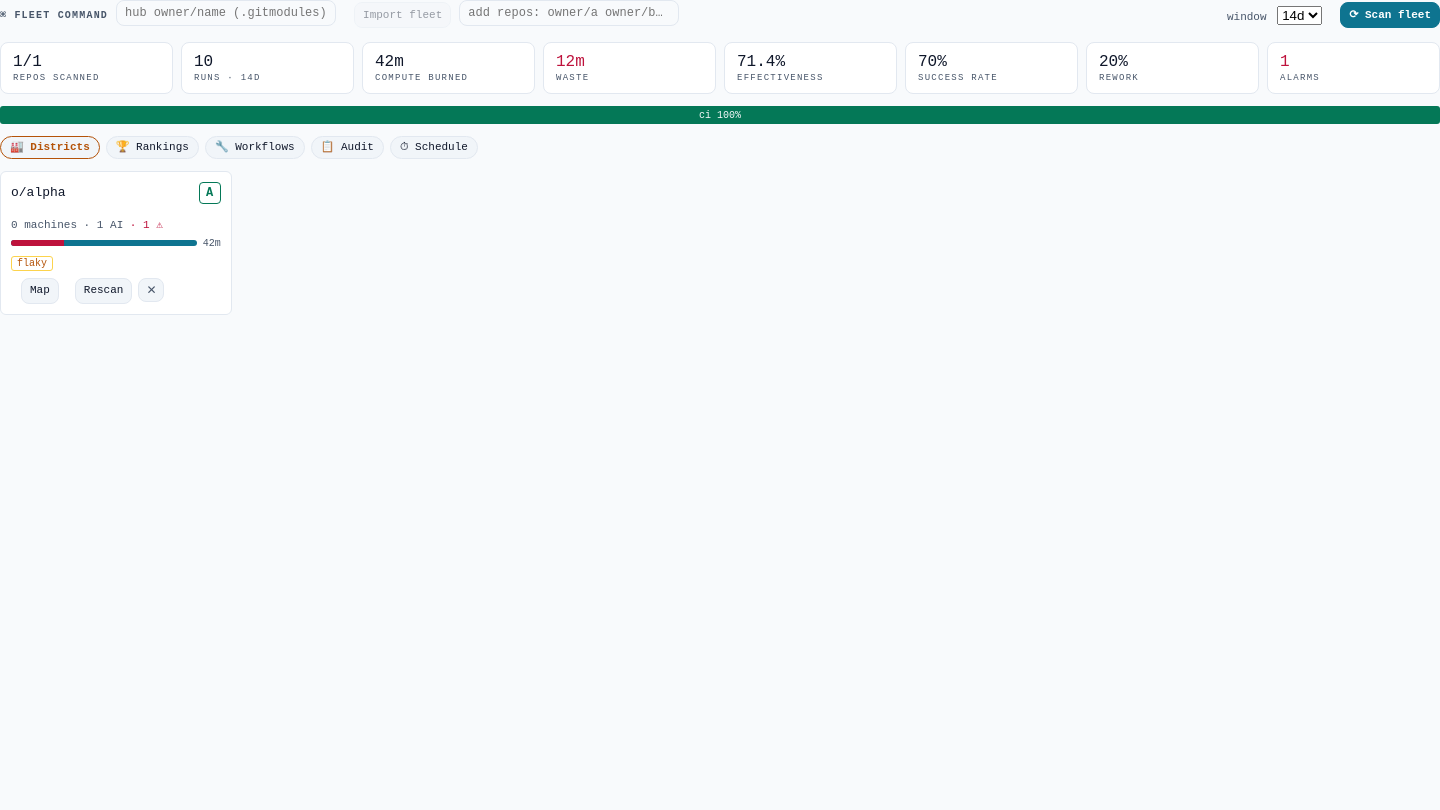
Test: FleetOpsPanel › opens the drawer for a workflow and shows its AI cost-centre capabilities
The width and height of the screenshot is (1440, 810).
What coordinates should you click on to do the following:
click the button "🔧 Workflows"
I would click on:
 (255, 147)
Its box is x1=205 y1=136 x2=305 y2=158.
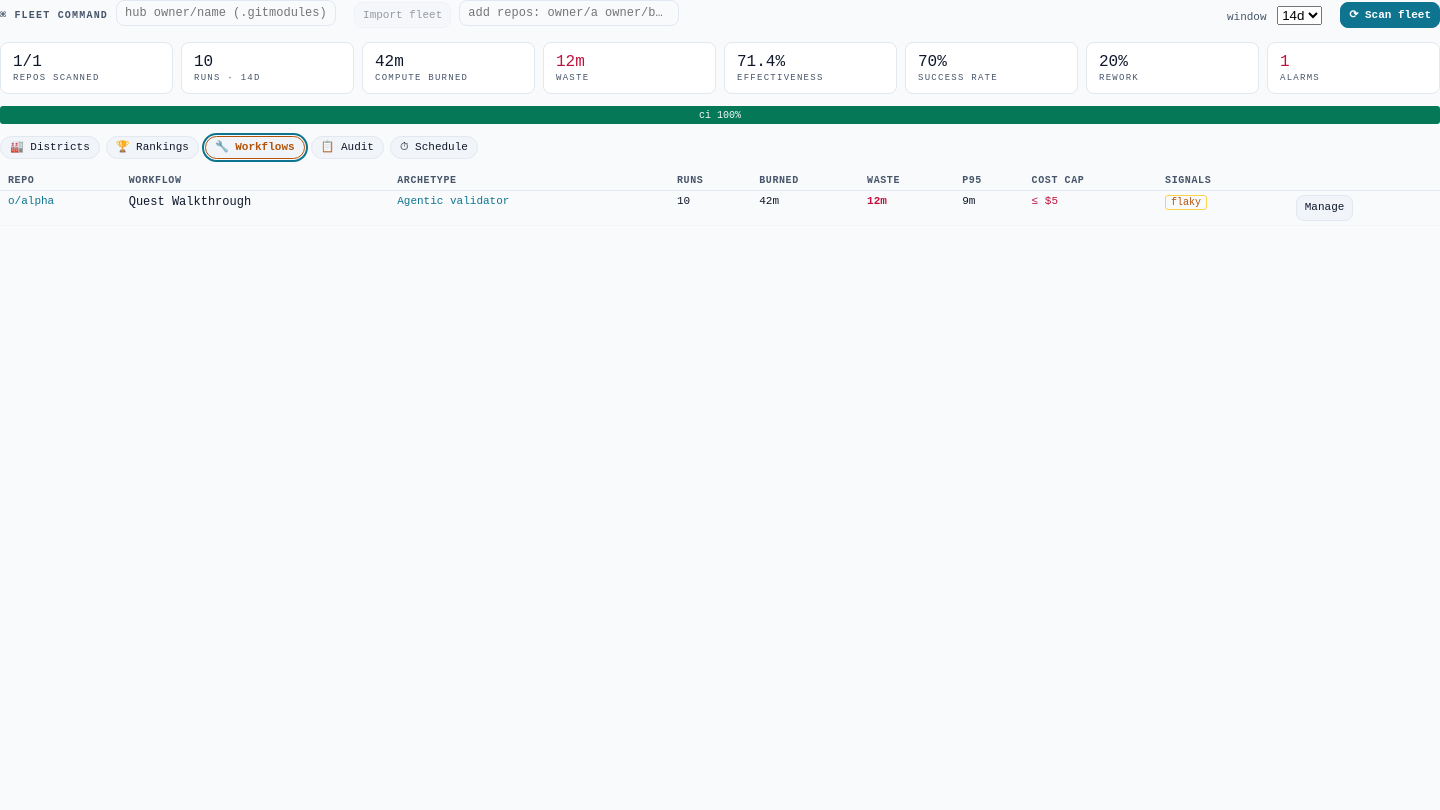
What coordinates should you click on to do the following:
click the button "Manage"
I would click on:
 (1325, 208)
Its box is x1=1296 y1=194 x2=1353 y2=220.
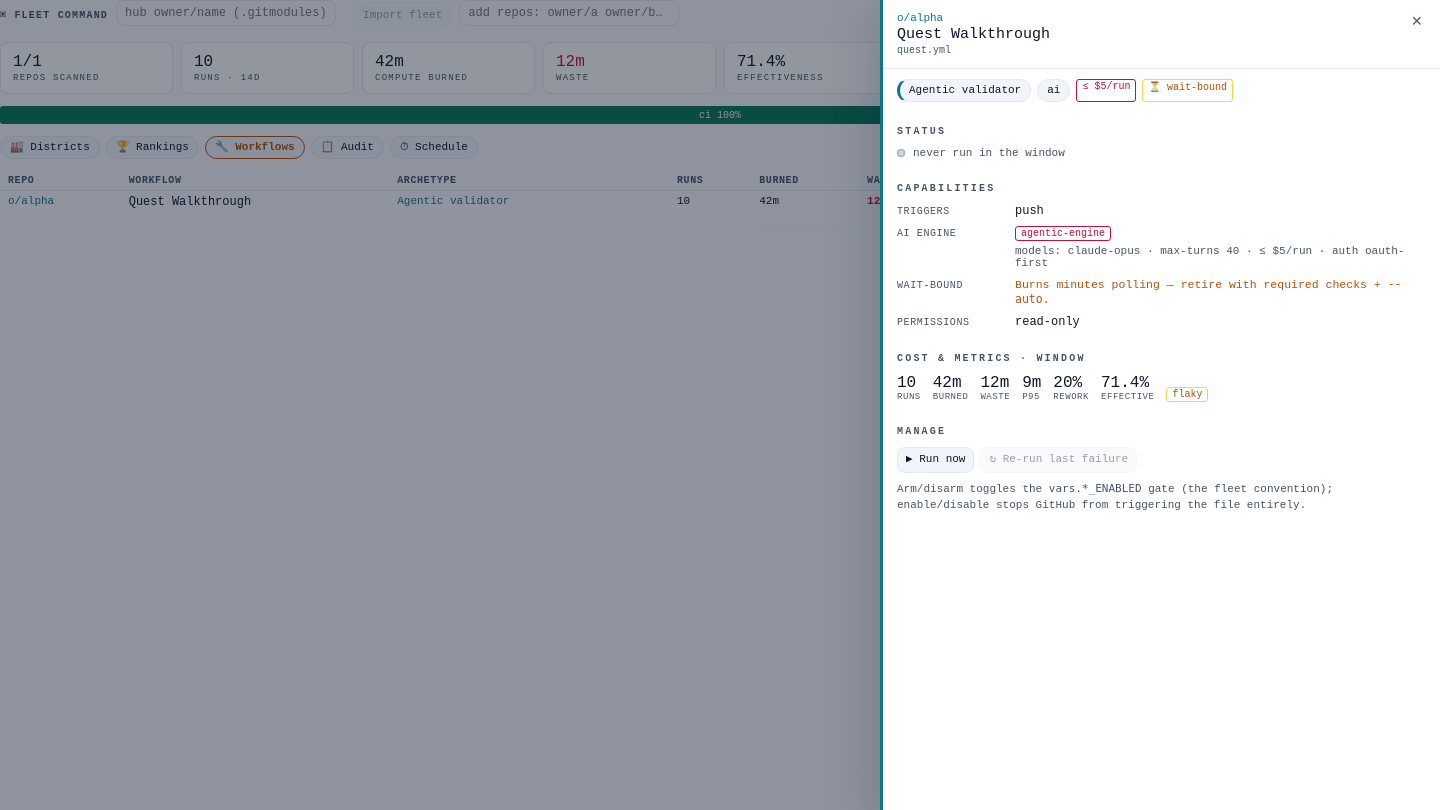
Result: the text "Agentic validator" is shown at x1=897 y1=79 x2=1031 y2=102
Result: the text "agentic-engine" is shown at x1=1015 y1=226 x2=1111 y2=240
Result: the text "≤ $5/run" is shown at x1=1076 y1=79 x2=1136 y2=102
